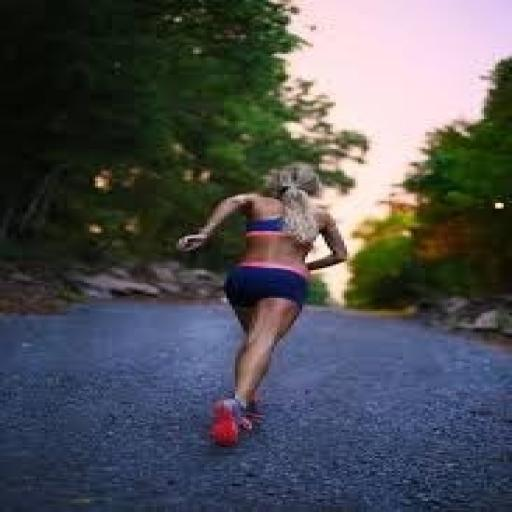running: (174, 160, 352, 449)
